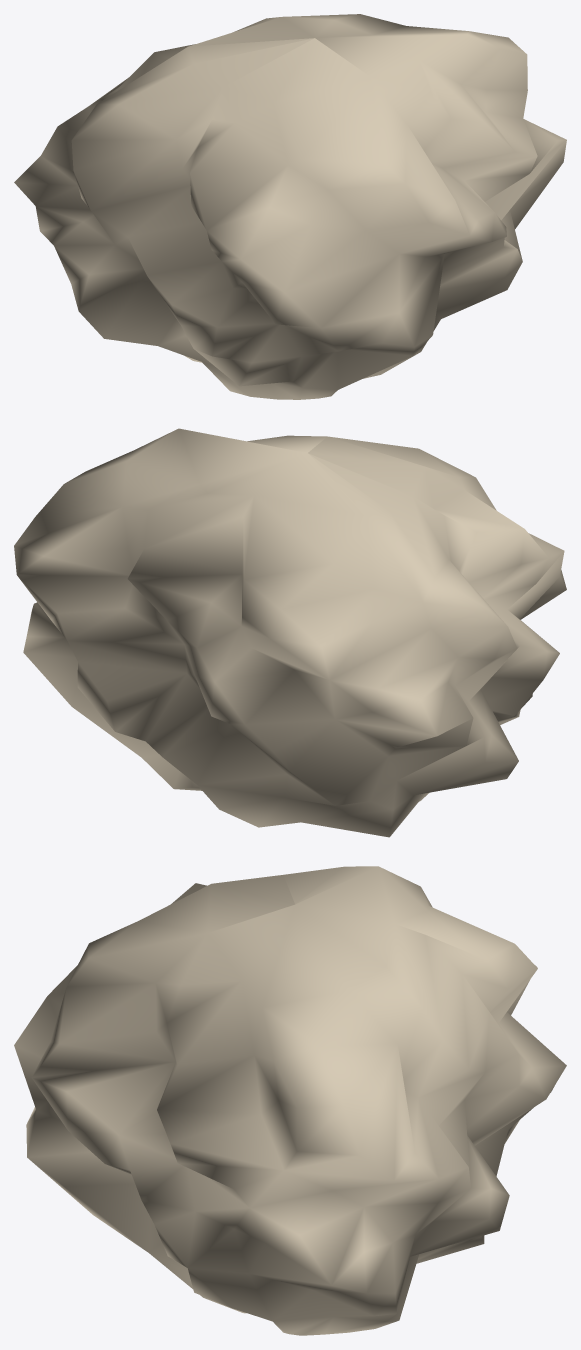
The model's file is rock1-lod1.glb.
The picture shows the model from 3 angles, top to bottom: view 1: azimuth 30°, elevation 25°; view 2: azimuth 150°, elevation 25°; view 3: azimuth 270°, elevation 25°; orthographic projection. The views are drawn at different scales.
Visible parts, largest first — view 1: rock1_rock; view 2: rock1_rock; view 3: rock1_rock.
Boxes of the visible parts, x1,y1,x2,y2 form: rock1_rock: [14, 14, 566, 399]; rock1_rock: [14, 428, 566, 837]; rock1_rock: [14, 866, 566, 1335].
Bounding box in the file's own units: 2.23 × 1.47 × 1.93.
